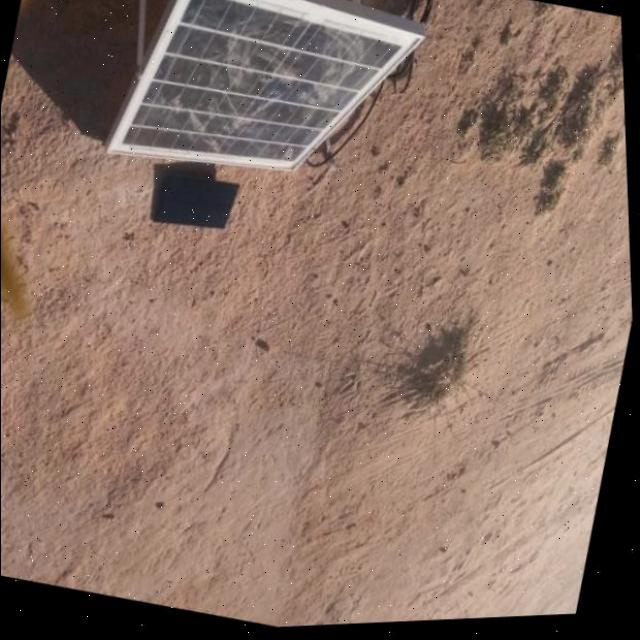Normal Solar Panel: (154, 170, 243, 242)
